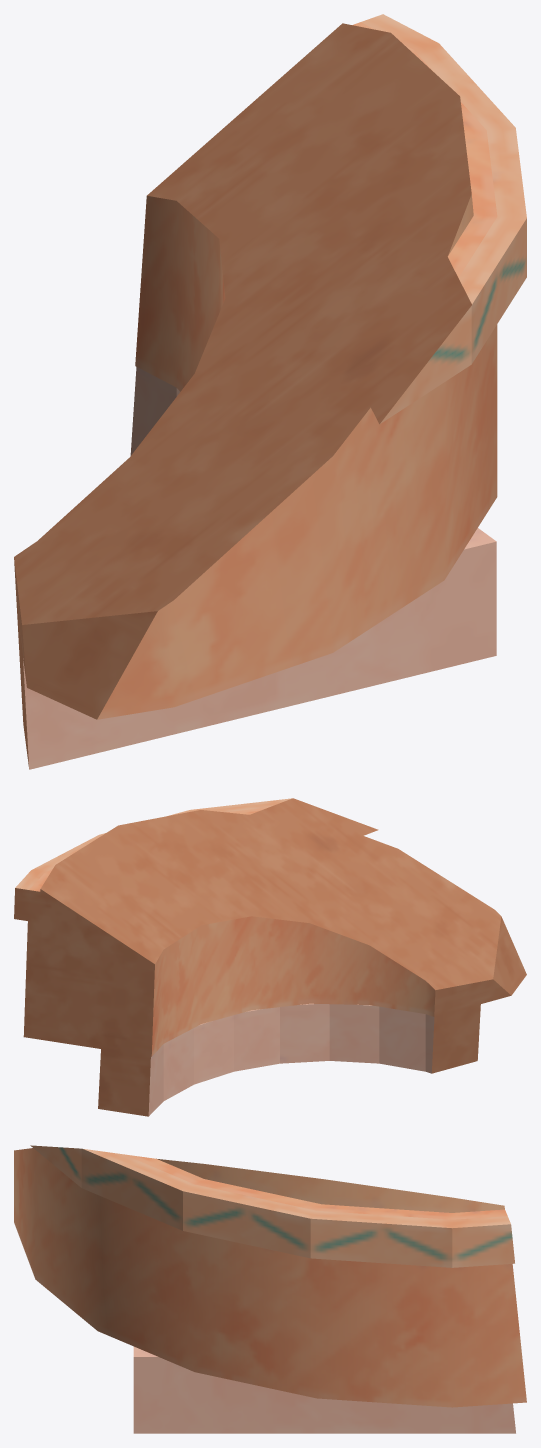
Rendered from dome_s01.fbx.
3 views of the same model, one above another, from view 1: azimuth 30°, elevation 25°; view 2: azimuth 150°, elevation 25°; view 3: azimuth 270°, elevation 25° (orthographic). The views are drawn at different scales.
Visible parts, largest first — view 1: dome_s01; view 2: dome_s01; view 3: dome_s01.
Boxes of the visible parts, x1=… form: dome_s01: x1=14, y1=14, x2=526, y2=769; dome_s01: x1=14, y1=798, x2=526, y2=1116; dome_s01: x1=14, y1=1145, x2=526, y2=1433.
Size of the model in its own units: 6.63 by 4 by 6.44.
